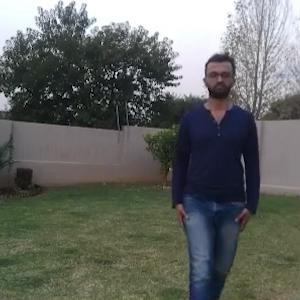follow: (177, 55, 255, 299)
